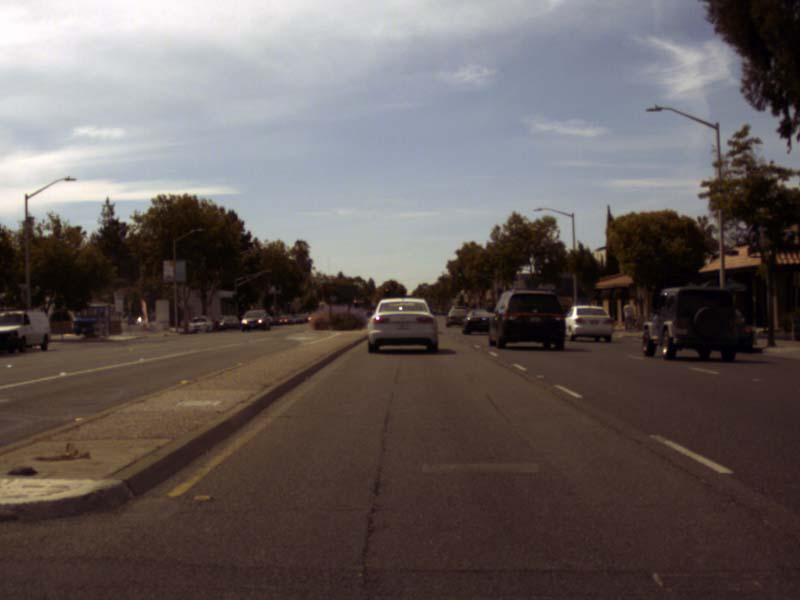Green: (456, 265, 462, 281)
Yellow: (351, 295, 358, 305), (383, 286, 388, 297)
